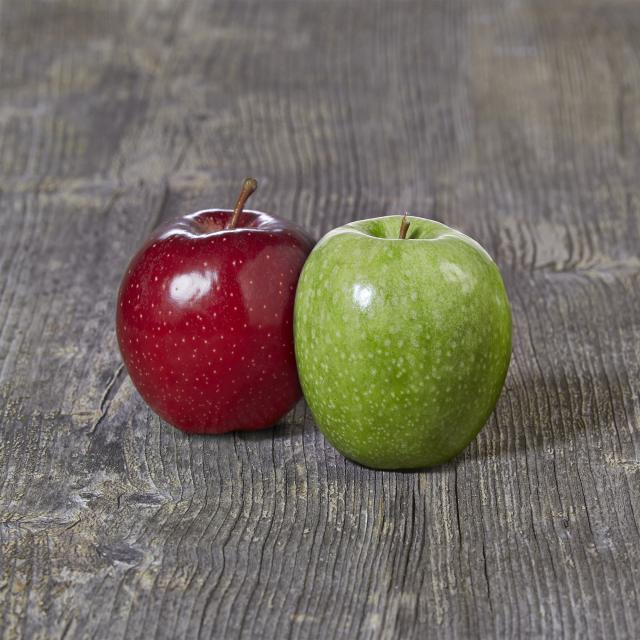Green Apple: (316, 193, 511, 486)
Red Apple: (114, 183, 294, 436)
